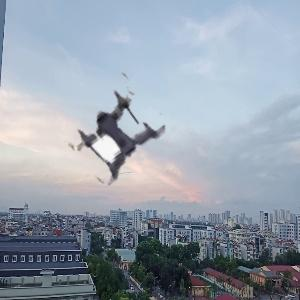drone: (63, 79, 174, 190)
